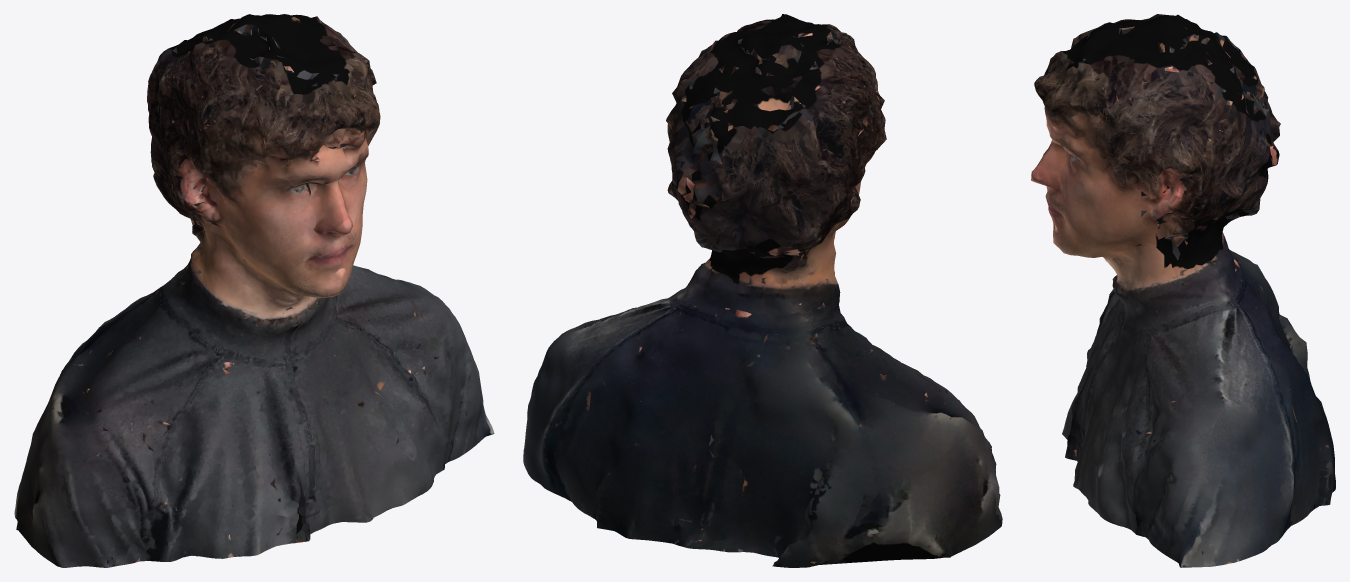
File: DamianModel.glb
3 renders of one model, left to right at view 1: azimuth 30°, elevation 25°; view 2: azimuth 150°, elevation 25°; view 3: azimuth 270°, elevation 25°, orthographic. The views are drawn at different scales.
Parts seen in each view (by area): view 1: damian; view 2: damian; view 3: damian.
Boxes of the visible parts, bbox=[...] form: damian: bbox=[14, 14, 494, 567]; damian: bbox=[523, 14, 1002, 567]; damian: bbox=[1031, 14, 1335, 567].
Size of the model in its own units: 0.5157 by 0.5089 by 0.321.
Materials: 1 (1 with a texture image).
